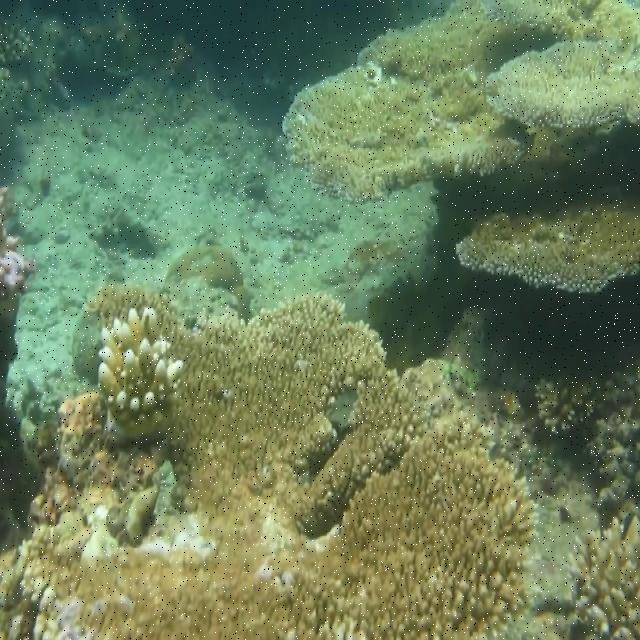reefs: (0, 286, 543, 639), (281, 3, 638, 202), (454, 196, 638, 290)
